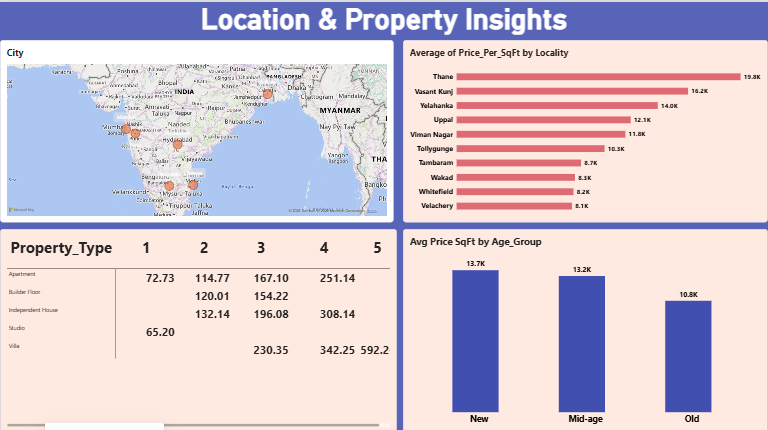

What the dashboard file says about the page in this screenshot:
{"tool":"powerbi","page":{"name":"Location &Property","canvas":[1920,1080],"ordinal":1},"visuals":[{"type":"textbox","title":"Location & Property Insights","box":[0,0,1920,96],"z":0},{"type":"map","fields":{"Category":["Real_estate clean.City"]},"box":[0,96,984,456],"z":1000},{"type":"barChart","fields":{"Category":["Real_estate clean.Locality"],"Y":["Avg(Real_estate clean.Price_Per_SqFt)"]},"box":[1008,96,912,456],"z":2000},{"type":"pivotTable","fields":{"Columns":["Real_estate clean.BHK"],"Rows":["Real_estate clean.Property_Type"],"Values":["_Measures.Avg Price Lakhs"]},"box":[0,568,992,512],"z":3000},{"type":"clusteredColumnChart","fields":{"Category":["Real_estate clean.Age_Group"],"Y":["_Measures.Avg Price SqFt"]},"box":[1008,568,912,512],"z":4000}]}

Visuals, with their boxes in screenshot pixels (x1, y1, x2, y2), scaled from the page's 1920x1080 canvas onto the 768x430 screenshot:
"Location & Property Insights" textbox: 0,0,767,38
map - Real_estate clean.City: 0,38,394,220
barChart - Real_estate clean.Locality x Avg(Real_estate clean.Price_Per_SqFt): 403,38,767,220
pivotTable - Real_estate clean.BHK x Real_estate clean.Property_Type: 0,226,397,429
clusteredColumnChart - Real_estate clean.Age_Group x _Measures.Avg Price SqFt: 403,226,767,429
